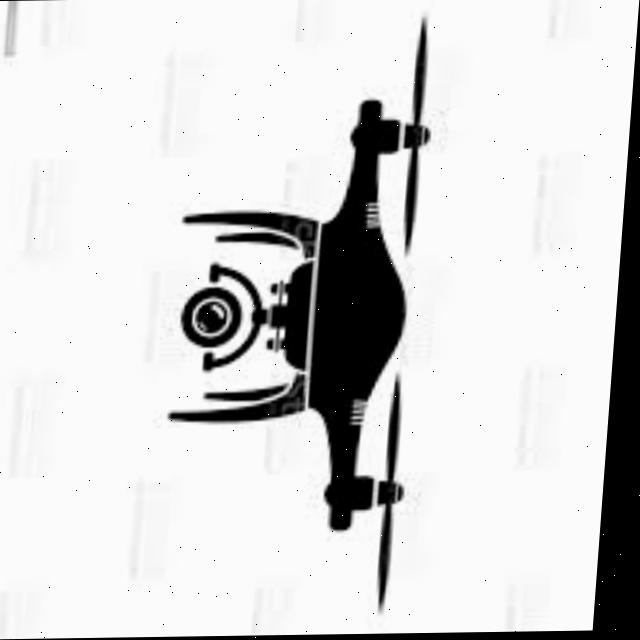drone: (89, 7, 494, 620)
